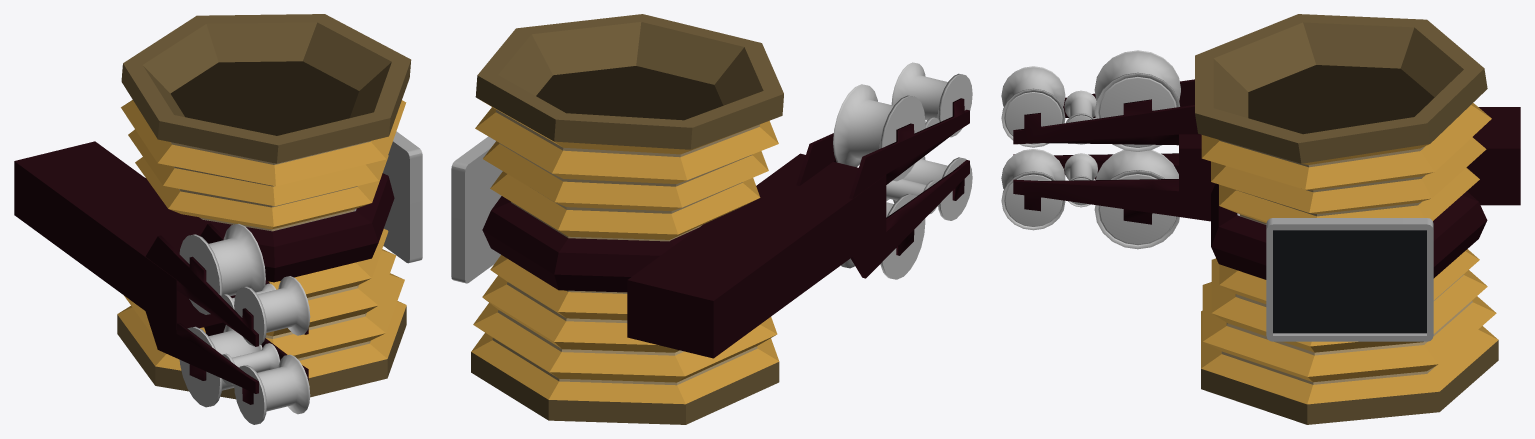
Rendered from PlayerAnimation_Death.fbx.
The picture shows the model from 3 angles, left to right: view 1: azimuth 30°, elevation 25°; view 2: azimuth 150°, elevation 25°; view 3: azimuth 270°, elevation 25°; orthographic projection. The views are drawn at different scales.
Visible parts, largest first — view 1: Original; view 2: Original; view 3: Original.
Part boxes in pixels (bbox=[...]): Original: bbox=[14, 14, 422, 424]; Original: bbox=[451, 14, 972, 424]; Original: bbox=[1001, 14, 1520, 424].
Size of the model in its own units: 226 by 206 by 331.
